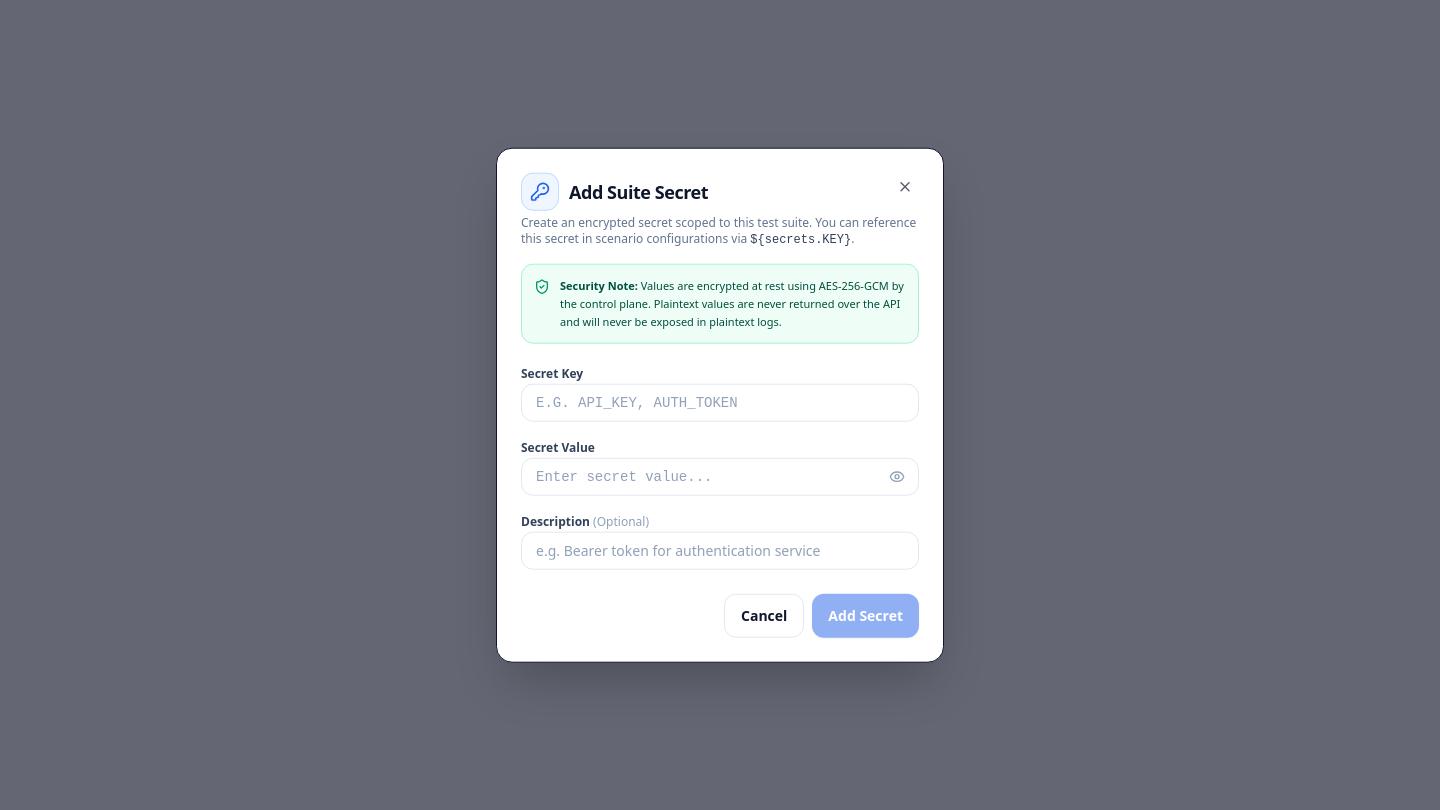
Test: Secrets Interactive Dialogs › CreateSecretDialog › validates key format and displays error for lowercase or invalid keys
Type "lowercase_key" into the field labelled "Secret Key".
click(720, 402); type("lowercase_key")  # box left=521, top=383, right=919, bottom=421
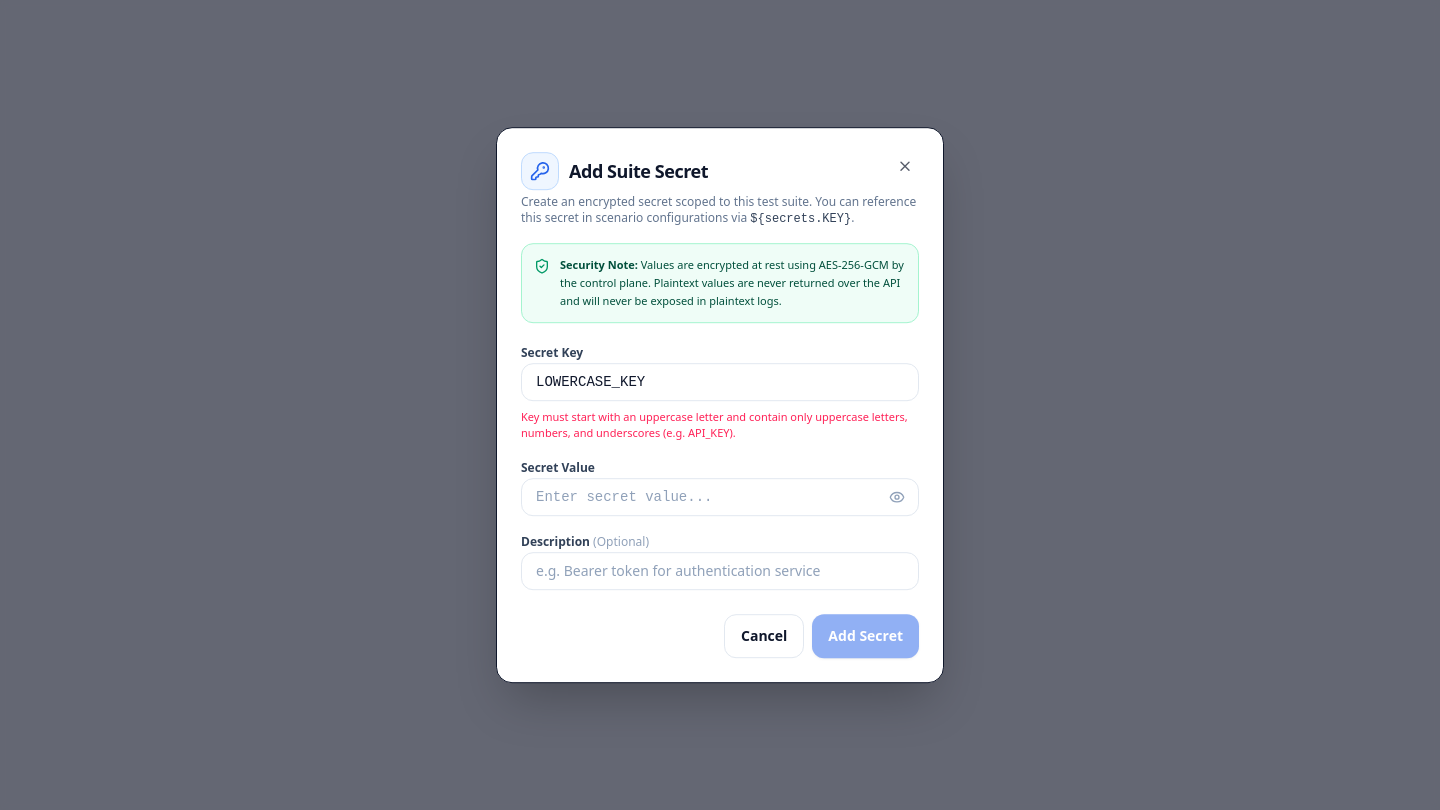
expect the text "Key must start with an uppercase letter" is shown: met, box left=521, top=409, right=908, bottom=440
